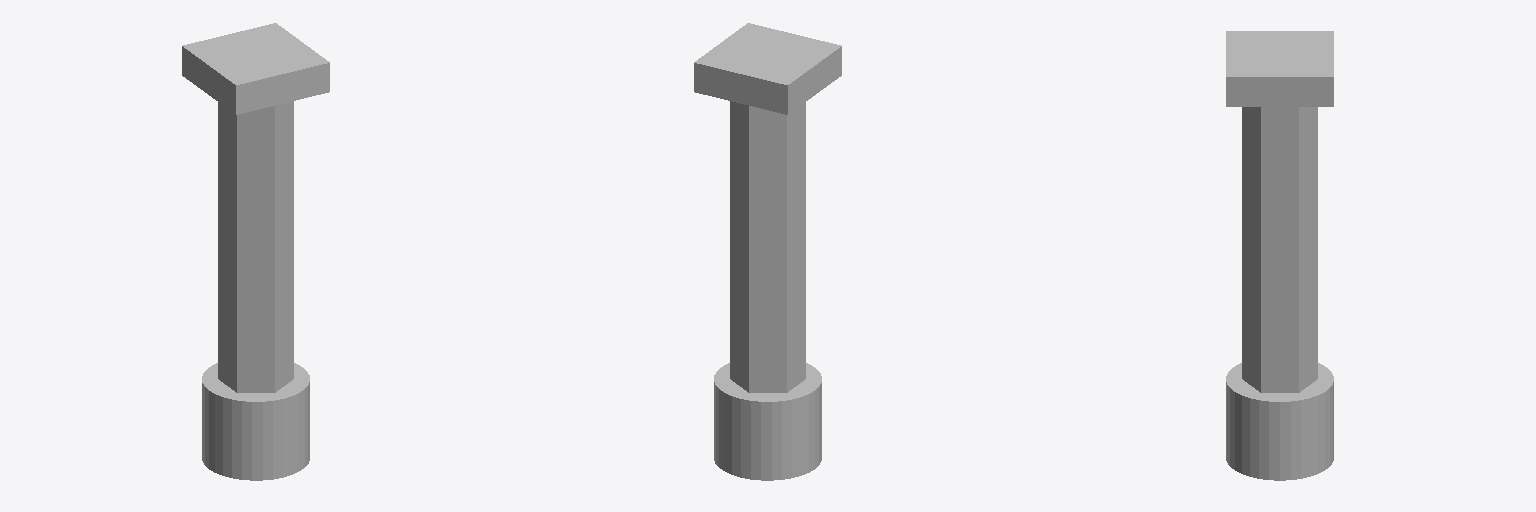
File: Pillarfirst.obj
3 renders of one model, left to right at view 1: azimuth 30°, elevation 25°; view 2: azimuth 150°, elevation 25°; view 3: azimuth 270°, elevation 25°, orthographic.
Visible parts, largest first — view 1: Cube; view 2: Cube; view 3: Cube.
Boxes of the visible parts, x1,y1,x2,y2 form: Cube: [182, 23, 329, 480]; Cube: [694, 23, 841, 480]; Cube: [1226, 31, 1333, 480].
Bounding box in the file's own units: 2 × 8.2 × 2.